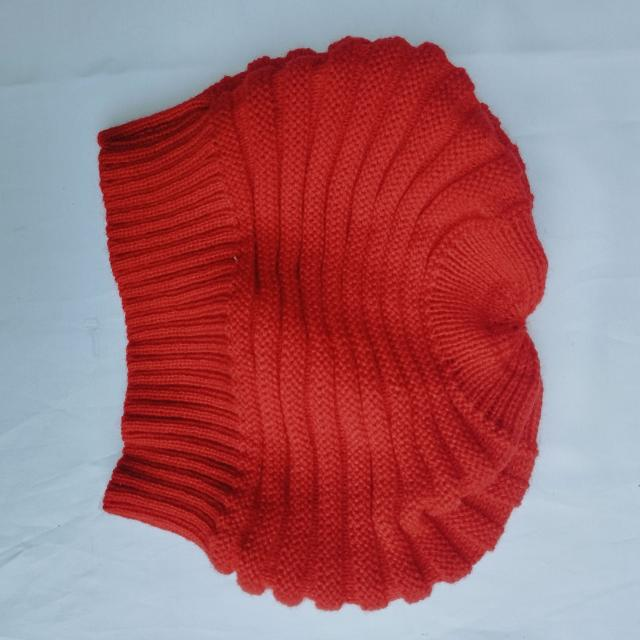Gorro: (96, 34, 550, 612)
